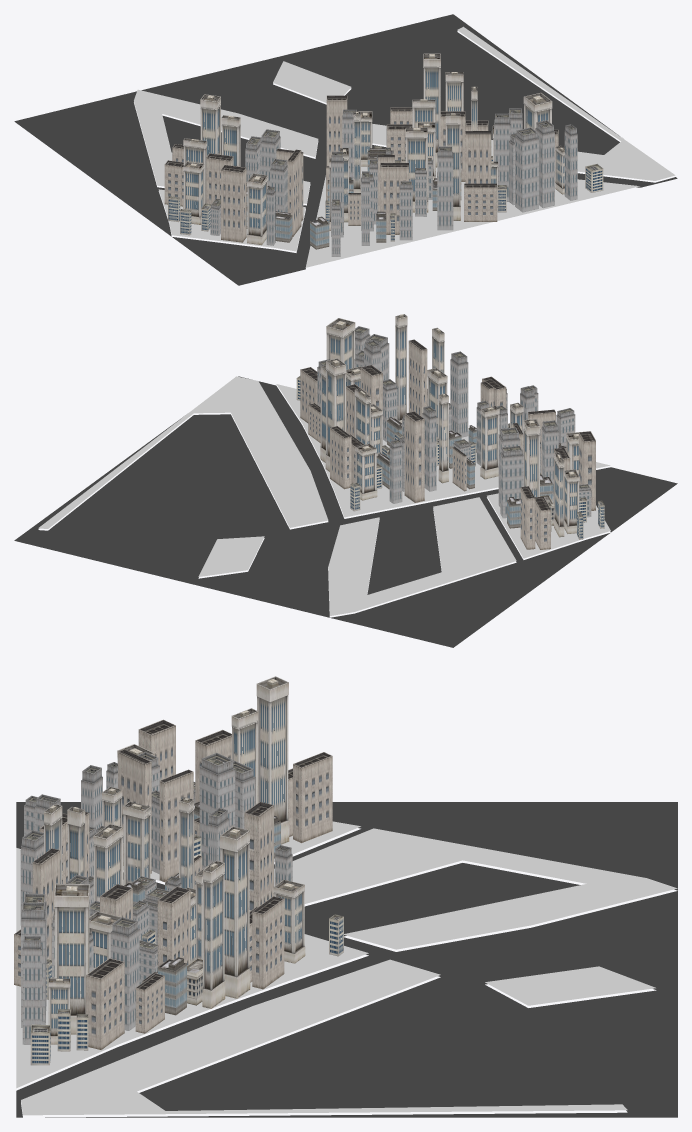
The model's file is citysmall.gltf.
The picture shows the model from 3 angles, top to bottom: view 1: azimuth 30°, elevation 25°; view 2: azimuth 150°, elevation 25°; view 3: azimuth 270°, elevation 25°; orthographic projection. The views are drawn at different scales.
Parts seen in each view (by area): view 1: Malu4_Mesh, city_obj_18_edge_06_city_obj_18_lou6_city_obj6, Lumian, city_obj_16_edge_04_city_obj_16_lou4_city_obj4, city_obj_19_edge_07_city_obj_19_lou7_city_obj7, city_obj_17_edge_05_city_obj_17_lou5_city_obj5, city_obj_14_edge_02_city_obj_14_lou2_city_obj2; view 2: Malu4_Mesh, Lumian, city_obj_16_edge_04_city_obj_16_lou4_city_obj4, city_obj_19_edge_07_city_obj_19_lou7_city_obj7, city_obj_18_edge_06_city_obj_18_lou6_city_obj6, city_obj_17_edge_05_city_obj_17_lou5_city_obj5, city_obj_14_edge_02_city_obj_14_lou2_city_obj2; view 3: Malu4_Mesh, Lumian, city_obj_16_edge_04_city_obj_16_lou4_city_obj4, city_obj_19_edge_07_city_obj_19_lou7_city_obj7, city_obj_18_edge_06_city_obj_18_lou6_city_obj6, city_obj_14_edge_02_city_obj_14_lou2_city_obj2, city_obj_17_edge_05_city_obj_17_lou5_city_obj5, city_obj_15_edge_03_city_obj_15_lou3_city_obj3.
Part boxes in pixels (x1,y1,x2,y2): Malu4_Mesh: (14, 14, 677, 285); city_obj_18_edge_06_city_obj_18_lou6_city_obj6: (210, 108, 577, 256); Lumian: (134, 26, 675, 267); city_obj_16_edge_04_city_obj_16_lou4_city_obj4: (183, 53, 564, 245); city_obj_19_edge_07_city_obj_19_lou7_city_obj7: (164, 95, 558, 242); city_obj_17_edge_05_city_obj_17_lou5_city_obj5: (246, 148, 461, 249); city_obj_14_edge_02_city_obj_14_lou2_city_obj2: (168, 146, 603, 241); Malu4_Mesh: (14, 376, 677, 647); Lumian: (38, 376, 610, 615); city_obj_16_edge_04_city_obj_16_lou4_city_obj4: (320, 314, 583, 537); city_obj_19_edge_07_city_obj_19_lou7_city_obj7: (300, 339, 595, 549); city_obj_18_edge_06_city_obj_18_lou6_city_obj6: (317, 326, 591, 518); city_obj_17_edge_05_city_obj_17_lou5_city_obj5: (376, 417, 566, 528); city_obj_14_edge_02_city_obj_14_lou2_city_obj2: (296, 376, 604, 539); Malu4_Mesh: (16, 802, 677, 1117); Lumian: (16, 821, 677, 1115); city_obj_16_edge_04_city_obj_16_lou4_city_obj4: (44, 676, 305, 1044); city_obj_19_edge_07_city_obj_19_lou7_city_obj7: (14, 719, 332, 1049); city_obj_18_edge_06_city_obj_18_lou6_city_obj6: (20, 752, 292, 1044); city_obj_14_edge_02_city_obj_14_lou2_city_obj2: (30, 835, 343, 1065); city_obj_17_edge_05_city_obj_17_lou5_city_obj5: (124, 801, 280, 1015); city_obj_15_edge_03_city_obj_15_lou3_city_obj3: (187, 958, 202, 1005).
Bounding box in the file's own units: 42.15 × 11.09 × 37.47.
Materials: 8 (6 with a texture image).
